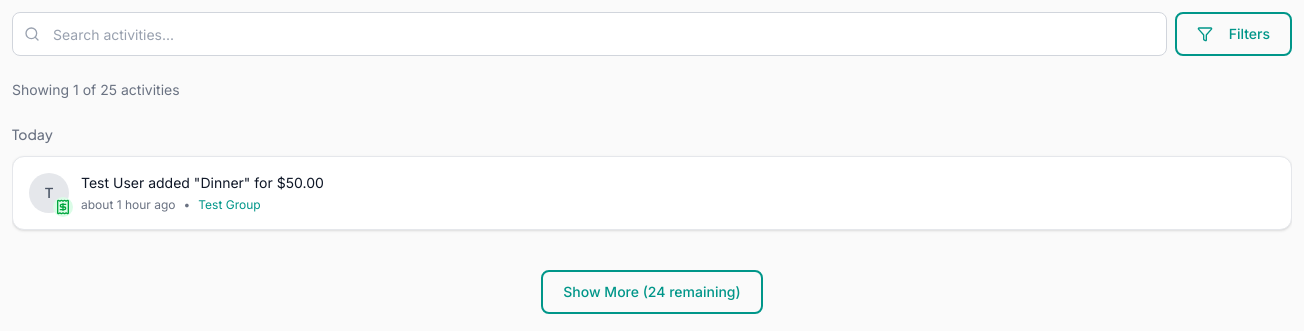
Test: ActivityPageClient › shows loading state when loading more
Click the button "Show More (24 remaining)" at (652, 292), box [541, 270, 763, 314]
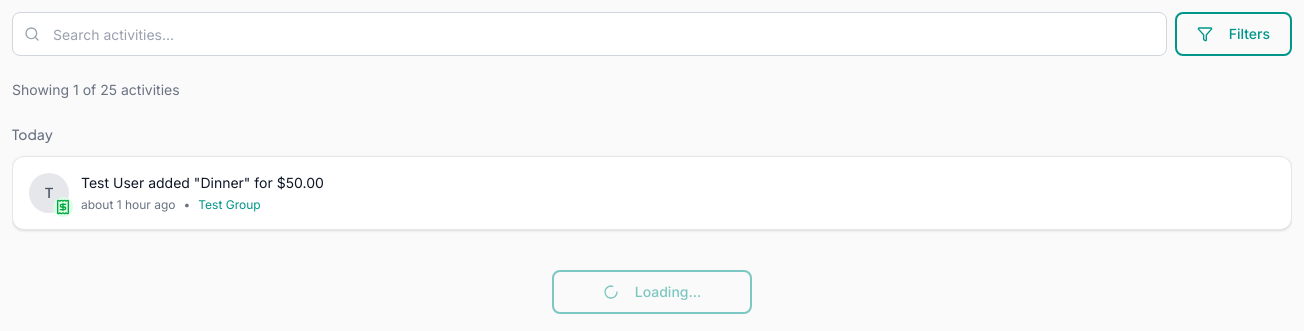
expect the button "Loading..." is shown: met, box [552, 270, 752, 314]
